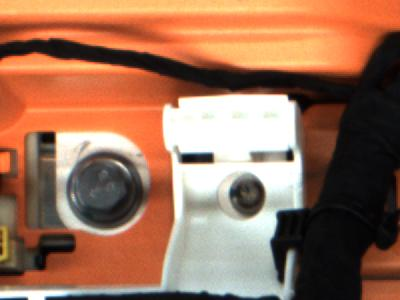nut_b: (66, 151, 145, 235)
